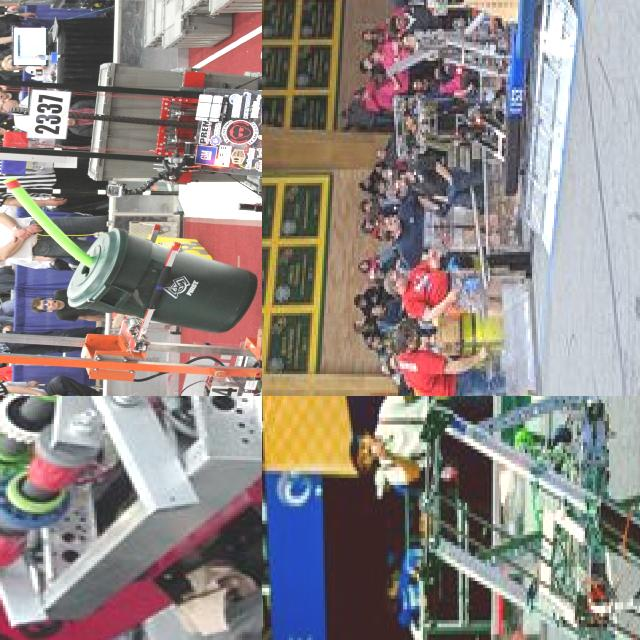FRC-Robots: (0, 396, 262, 612), (413, 396, 640, 640), (0, 37, 262, 219), (0, 309, 262, 396), (411, 0, 560, 93)
